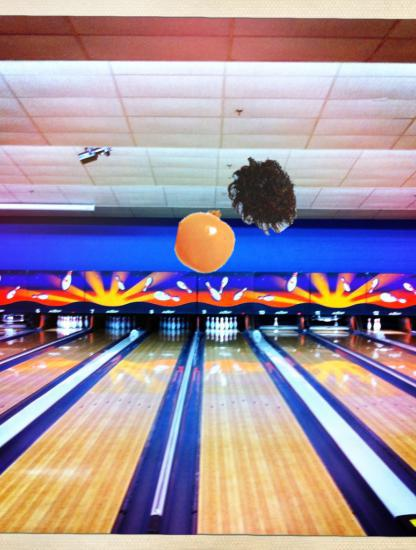Physalis: (172, 207, 240, 275)
Rambutan: (224, 156, 304, 236)
